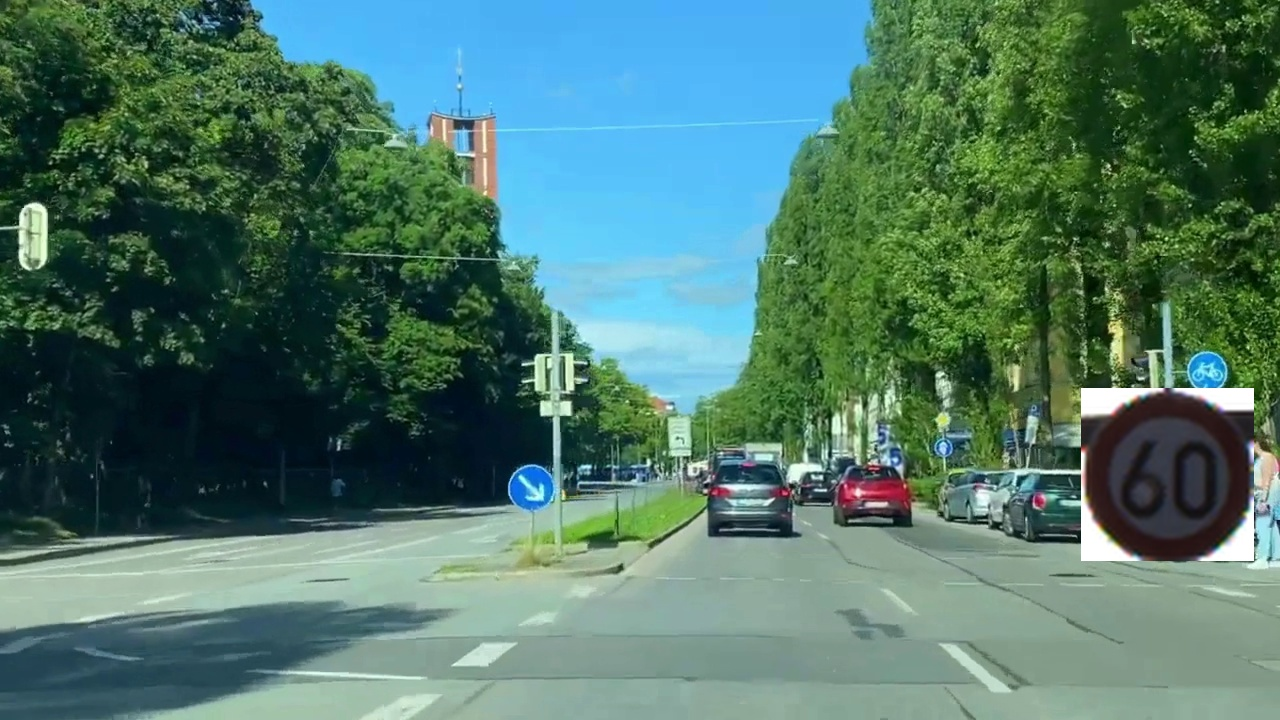Speed 60: (1081, 388, 1254, 561)
